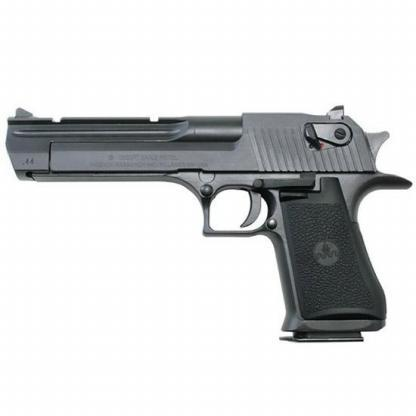Pistol: (5, 105, 412, 340)
